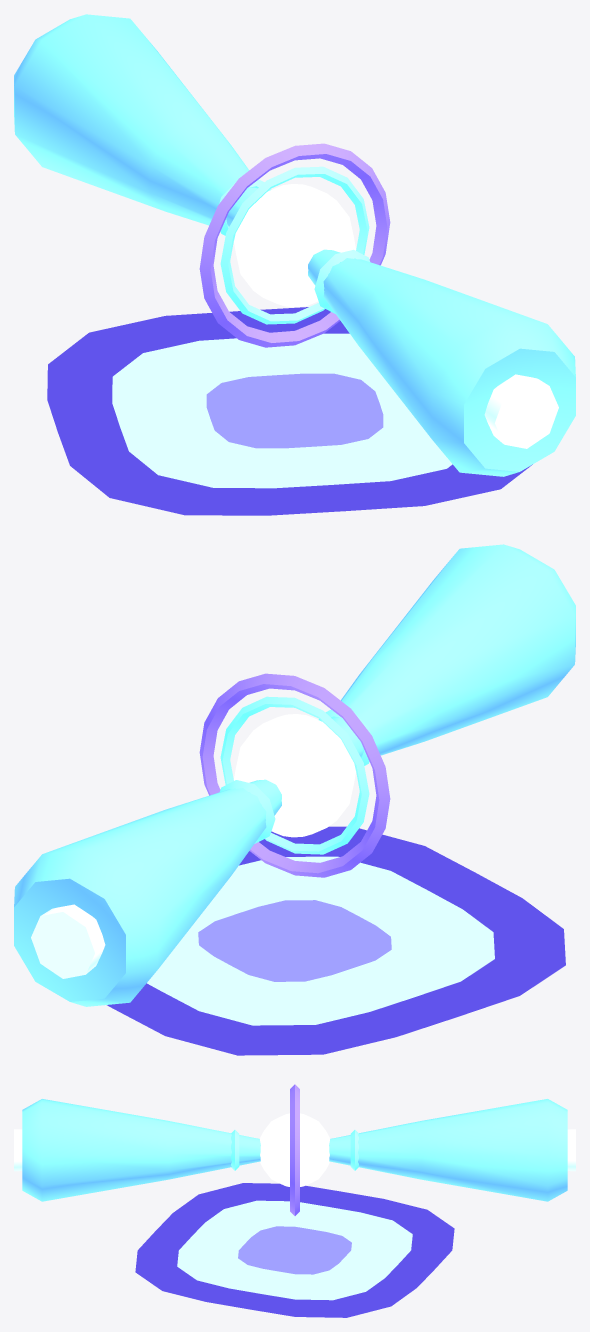
The model's file is pulsar.glb.
3 views of the same model, one above another, from view 1: azimuth 30°, elevation 25°; view 2: azimuth 150°, elevation 25°; view 3: azimuth 270°, elevation 25° (orthographic). The views are drawn at different scales.
Visible parts, largest first — view 1: head, body; view 2: head, body; view 3: head, body.
Part boxes in pixels (<box>): head: <box>14,14,575,476</box>; body: <box>47,307,532,515</box>; head: <box>14,544,575,1006</box>; body: <box>107,826,565,1055</box>; head: <box>14,1084,575,1215</box>; body: <box>135,1183,454,1317</box>.
Bounding box in the file's own units: 170 × 94.6 × 300.
